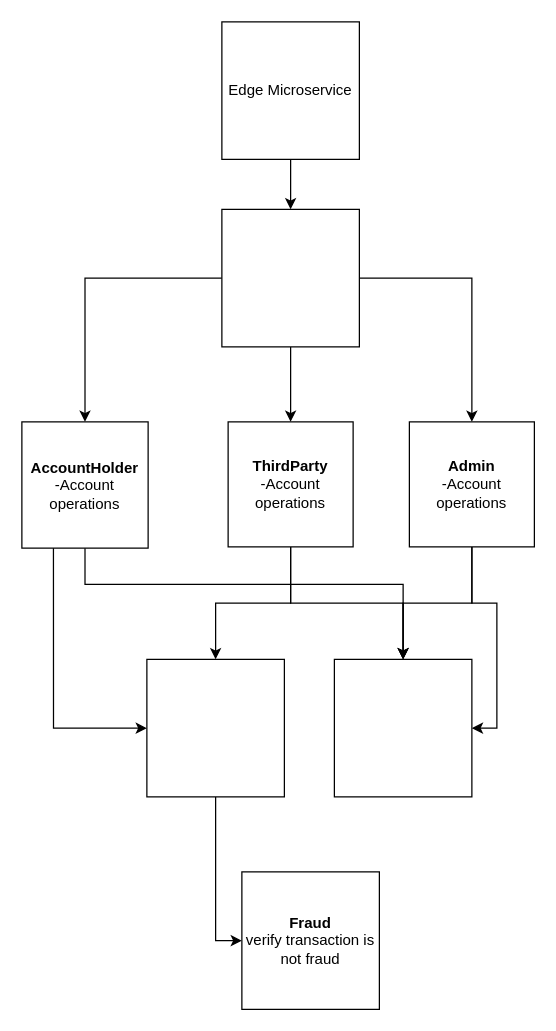
The diagram is 556 pixels wide and 1031 high, and some of its shapes have lost their labels. The centre of each missing label's shape, as x and y in pixels:
"Bank Account connection to DB" belongs at [215,727].
"Logging manage logs" belongs at [402,727].
"Security -Verify account belongs to AH or ThirdParty verification" belongs at [290,277].
